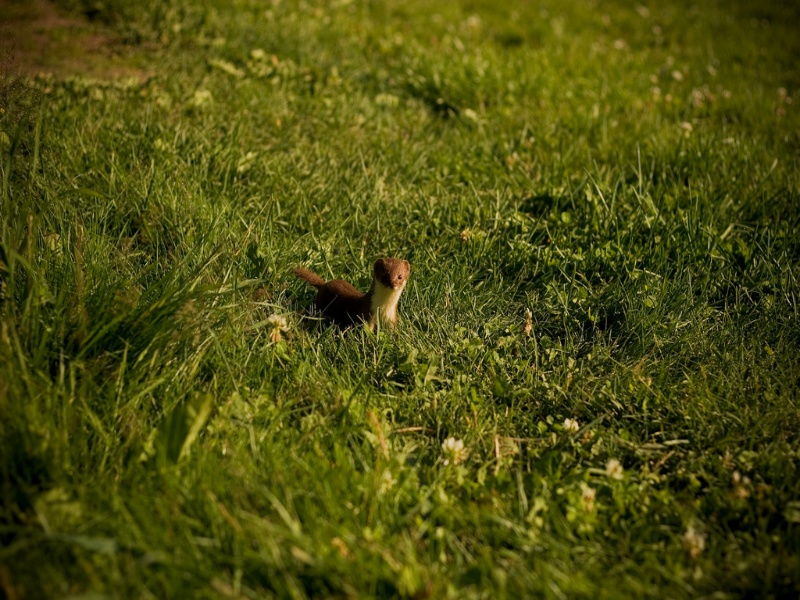minkish: (286, 248, 417, 343)
